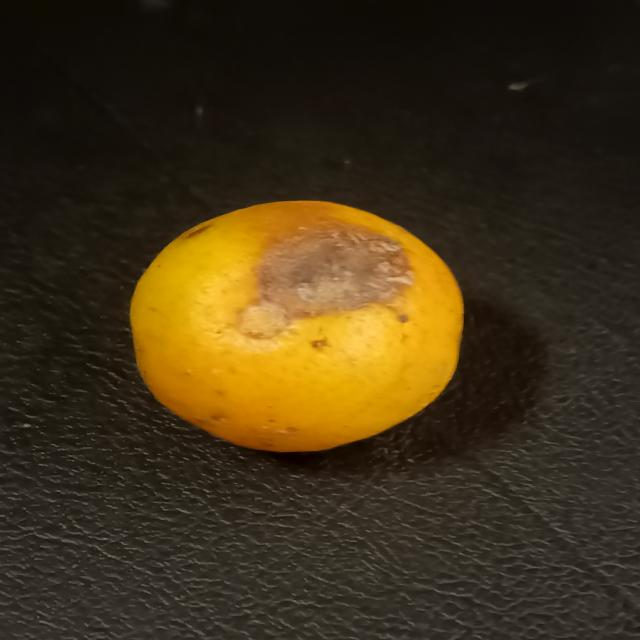black spot: (119, 189, 476, 456)
